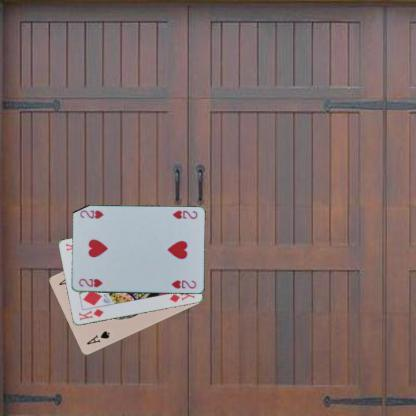2h: (76, 276, 104, 288), (170, 208, 198, 220)
As: (84, 328, 111, 346)
Kd: (76, 306, 105, 322)
